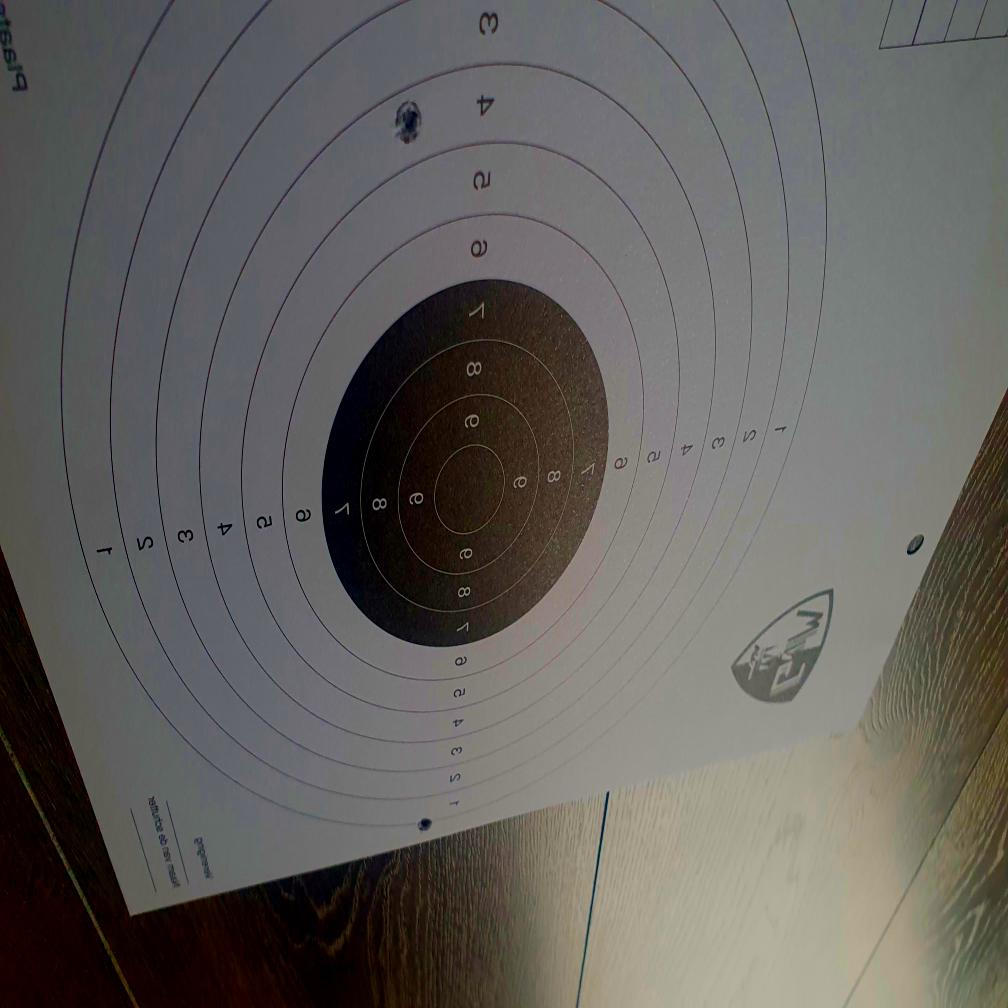1: (416, 815, 433, 837)
4: (394, 94, 423, 148)
Target: (63, 0, 826, 836)
black_contour: (322, 278, 610, 650)
